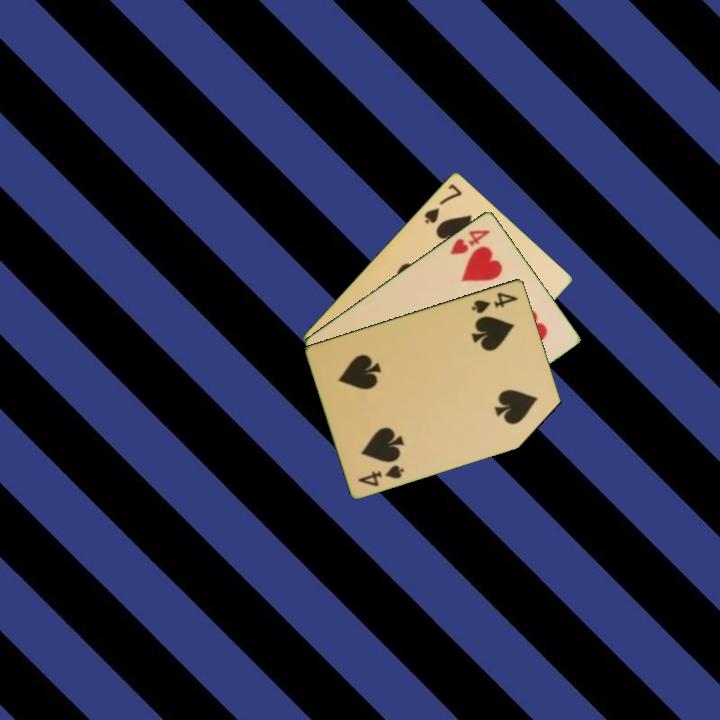4h: (446, 226, 493, 257)
4s: (468, 288, 521, 316), (354, 461, 407, 489)
7s: (421, 180, 465, 226)
